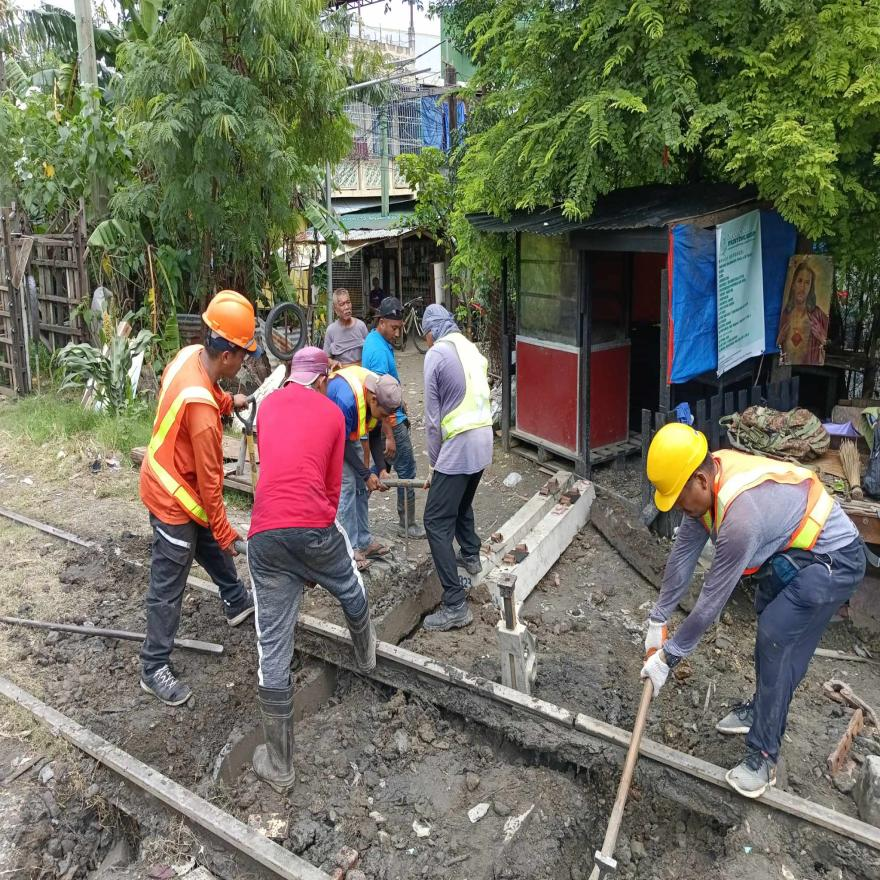railway-gap: (550, 682, 600, 756)
